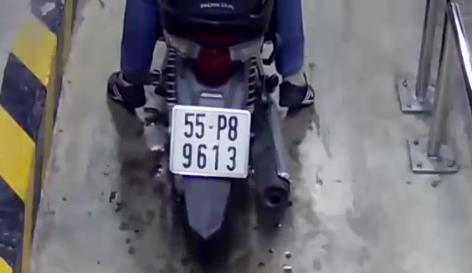lisence: (170, 105, 251, 180)
